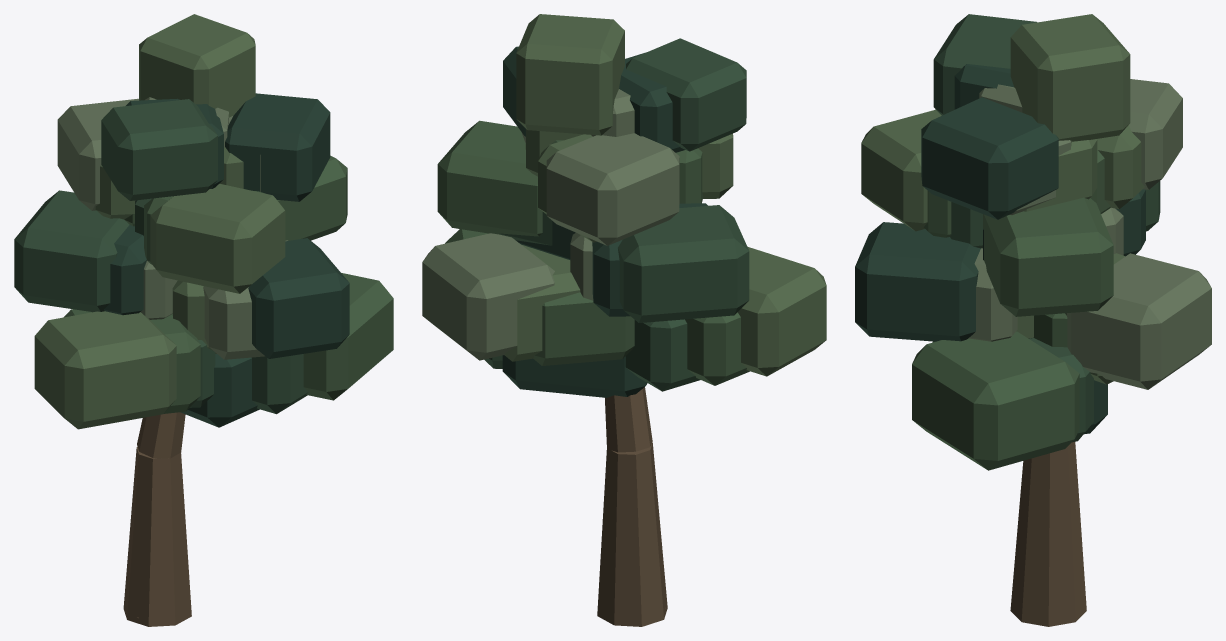
The model's file is juniper_ancient_2_picked.glb.
3 renders of one model, left to right at view 1: azimuth 30°, elevation 25°; view 2: azimuth 150°, elevation 25°; view 3: azimuth 270°, elevation 25°, orthographic. The views are drawn at different scales.
Parts seen in each view (by area): view 1: juniper_ancient_2_picked; view 2: juniper_ancient_2_picked; view 3: juniper_ancient_2_picked.
Boxes of the visible parts, bbox=[...] form: juniper_ancient_2_picked: bbox=[14, 14, 393, 626]; juniper_ancient_2_picked: bbox=[422, 14, 826, 626]; juniper_ancient_2_picked: bbox=[855, 14, 1211, 626].
Size of the model in its own units: 10.38 by 16 by 8.6.
